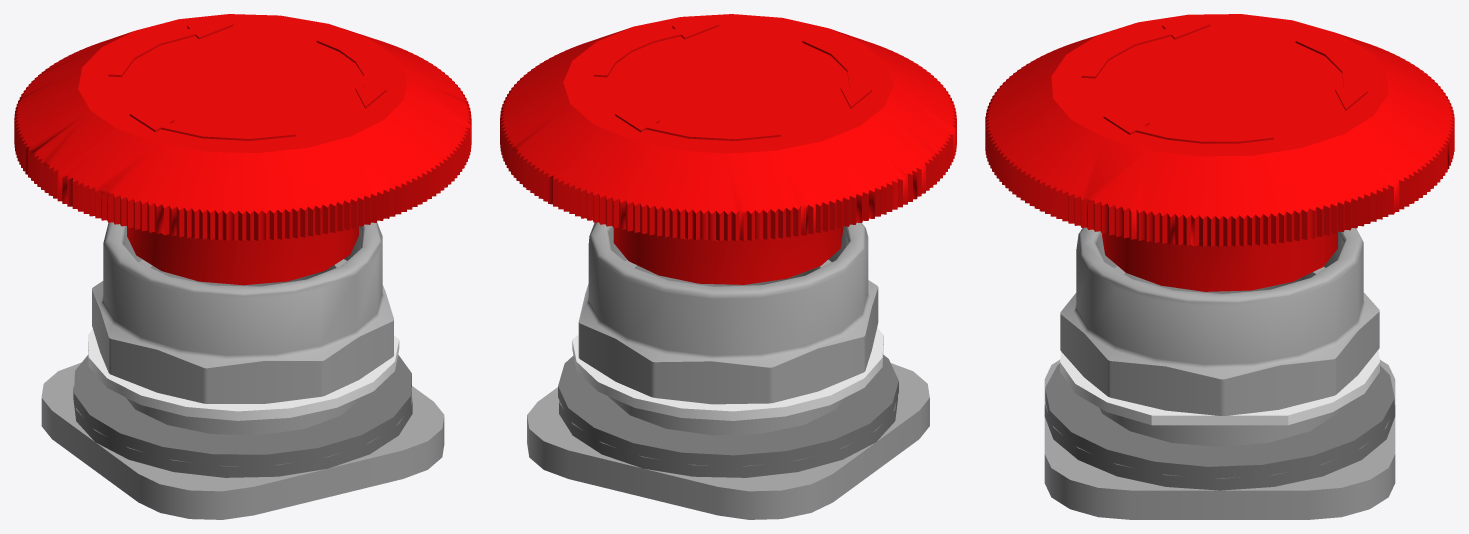
Rendered from boucer.FBX.
3 views of the same model, side by side, from view 1: azimuth 30°, elevation 25°; view 2: azimuth 150°, elevation 25°; view 3: azimuth 270°, elevation 25° (orthographic). The views are drawn at different scales.
Visible parts, largest first — view 1: 0; view 2: 0; view 3: 0.
Boxes of the visible parts, left/top/right/bottom form: 0: left=14, top=14, right=471, bottom=519; 0: left=500, top=14, right=956, bottom=519; 0: left=985, top=14, right=1454, bottom=519.
Bounding box in the file's own units: 2.17 × 1.85 × 2.17.
